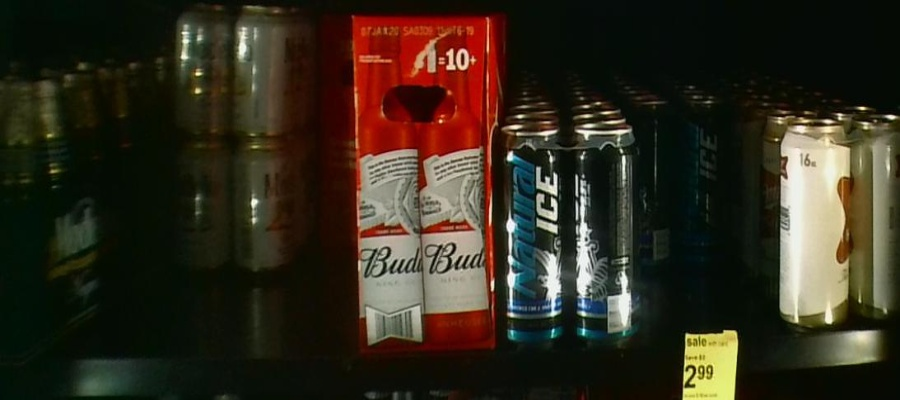bottle: (359, 15, 491, 350), (171, 4, 293, 275), (499, 128, 640, 346), (781, 119, 900, 328), (632, 103, 724, 264), (320, 17, 357, 257)
